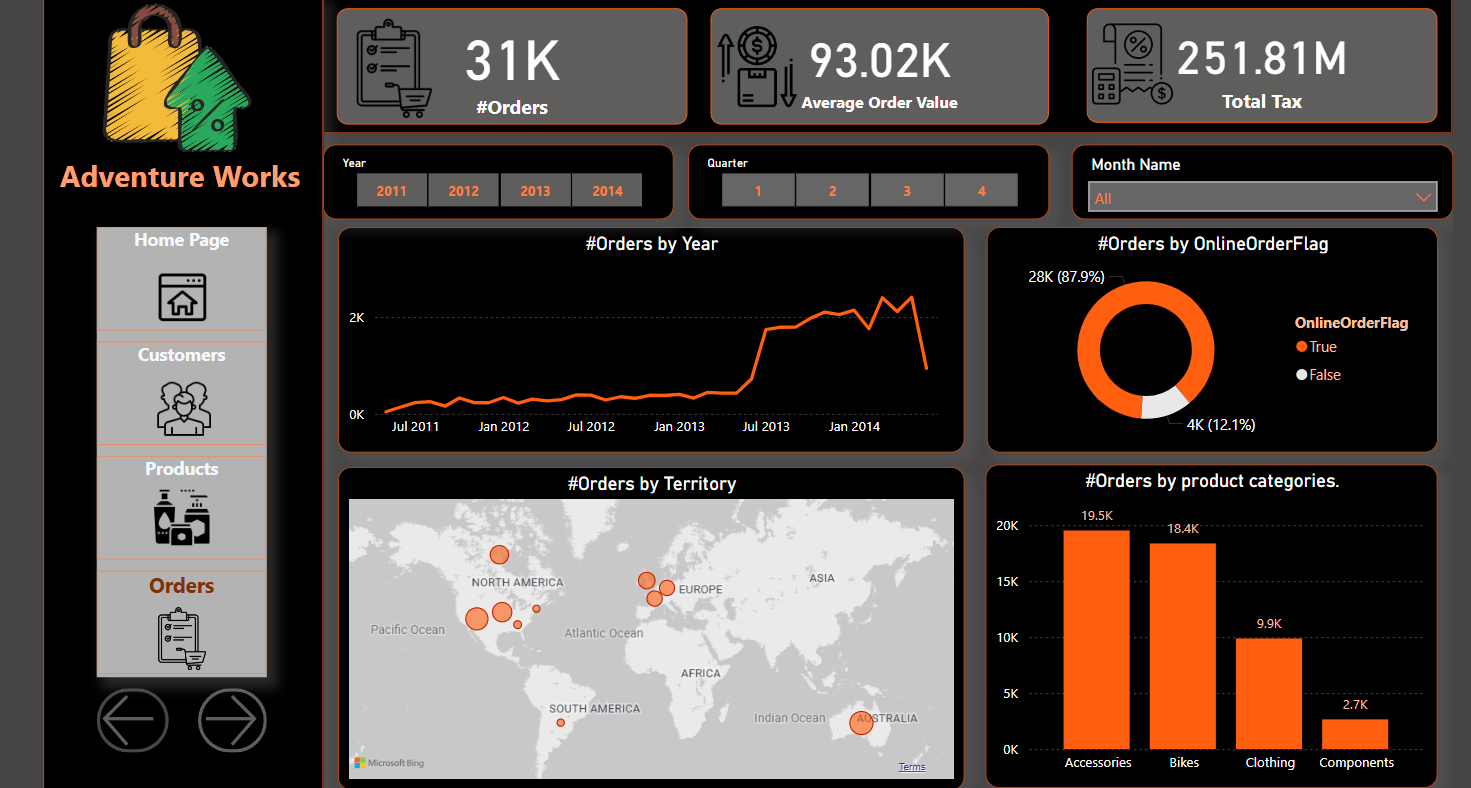

The page's visual inventory and layout, read from the dashboard file:
{"tool":"powerbi","page":{"name":"Orders","canvas":[1280,720],"ordinal":3},"visuals":[{"type":"shape","box":[254.6,0,1025.4,123.8],"z":0},{"type":"pageNavigator","box":[48.7,208.7,154.4,409],"z":0,"group":"g1"},{"type":"shape","box":[0,0,254.6,719.3],"z":1000},{"type":"image","box":[53.6,343.3,149.5,60.1],"z":1000,"group":"g1"},{"type":"card","fields":{"Values":["Dax_Meas.Total Tax"]},"box":[947.5,9.7,318.6,104.3],"z":2000},{"type":"image","box":[51.9,246.1,148.7,53.3],"z":2000,"group":"g1"},{"type":"lineChart","title":"#Orders by Year","fields":{"Category":["Dim_Date.Date.Variation.Date Hierarchy.Year","Dim_Date.Date.Variation.Date Hierarchy.Quarter","Dim_Date.Date.Variation.Date Hierarchy.Month"],"Y":["Dax_Meas.#Orders"]},"box":[267.5,208.8,568.8,205],"z":3000},{"type":"image","box":[48.7,442.6,154.4,60.1],"z":3000,"group":"g1"},{"type":"slicer","title":"Year","fields":{"Values":["Dim_Date.Month Name"]},"box":[933.6,133.6,346.4,68.2],"z":4000},{"type":"image","box":[48.7,548.5,154.4,69.3],"z":4000,"group":"g1"},{"type":"card","fields":{"Values":["Dax_Meas.Average Order Value"]},"box":[606.6,9.7,307.5,105.7],"z":5000},{"type":"slicer","title":"Year","fields":{"Values":["Dim_Date.Year"]},"box":[254.6,133.6,318.6,68.2],"z":6000},{"type":"card","fields":{"Values":["Dax_Meas.#Orders"]},"box":[267.1,9.7,318.6,105.7],"z":7000},{"type":"slicer","title":"Year","fields":{"Values":["Dim_Date.Quarter"]},"box":[585.7,133.6,328.3,68.2],"z":8000},{"type":"donutChart","fields":{"Category":["Fact_Orders.OnlineOrderFlag"],"Y":["Dax_Meas.#Orders"]},"box":[856.4,208.6,409.8,204.9],"z":9000},{"type":"textbox","box":[9.8,138.8,234,69.9],"z":10000,"group":"g2"},{"type":"actionButton","box":[140.5,627.5,62.6,58.4],"z":10000},{"type":"actionButton","box":[48.7,627.5,65.4,58.4],"z":11000},{"type":"image","box":[0,0,243.8,146.3],"z":12000,"group":"g2"},{"type":"group","id":"g1","title":"Group 4","box":[48.7,208.7,154.4,409],"z":12000},{"type":"clusteredColumnChart","title":"#Orders  by product categories.","fields":{"Category":["Dim_Products.ProductCategory"],"Y":["Dax_Meas.#Orders"]},"box":[856.2,425,410,293.8],"z":13000},{"type":"map","fields":{"Category":["Dim_Territory.Territory"],"Size":["Dax_Meas.#Orders"]},"box":[267.5,426.2,568.8,293.8],"z":14000},{"type":"image","box":[606.2,21.2,85,83.8],"z":15000},{"type":"image","box":[267.5,13.8,102.5,102.5],"z":16000},{"type":"image","box":[947.5,13.8,83.8,93.8],"z":17000},{"type":"group","id":"g2","title":"Group 1","box":[0,0,243.8,208.8],"z":18000}]}

Visuals, with their boxes on the page's 1280x720 design canvas (x1, y1, x2, y2). These are canvas units, not pixel positions in the 1471x788 screenshot, which may show the page scaled, cropped or inside an application window:
shape: <box>255,0,1280,124</box>
pageNavigator: <box>49,209,203,618</box>
shape: <box>0,0,255,719</box>
image: <box>54,343,203,403</box>
card - Dax_Meas.Total Tax: <box>948,10,1266,114</box>
image: <box>52,246,201,299</box>
"#Orders by Year" lineChart: <box>268,209,836,414</box>
image: <box>49,443,203,503</box>
"Year" slicer: <box>934,134,1280,202</box>
image: <box>49,548,203,618</box>
card - Dax_Meas.Average Order Value: <box>607,10,914,115</box>
"Year" slicer: <box>255,134,573,202</box>
card - Dax_Meas.#Orders: <box>267,10,586,115</box>
"Year" slicer: <box>586,134,914,202</box>
donutChart - Fact_Orders.OnlineOrderFlag x Dax_Meas.#Orders: <box>856,209,1266,414</box>
textbox: <box>10,139,244,209</box>
actionButton: <box>140,628,203,686</box>
actionButton: <box>49,628,114,686</box>
image: <box>0,0,244,146</box>
"Group 4" group: <box>49,209,203,618</box>
"#Orders  by product categories." clusteredColumnChart: <box>856,425,1266,719</box>
map - Dim_Territory.Territory x Dax_Meas.#Orders: <box>268,426,836,720</box>
image: <box>606,21,691,105</box>
image: <box>268,14,370,116</box>
image: <box>948,14,1031,108</box>
"Group 1" group: <box>0,0,244,209</box>
